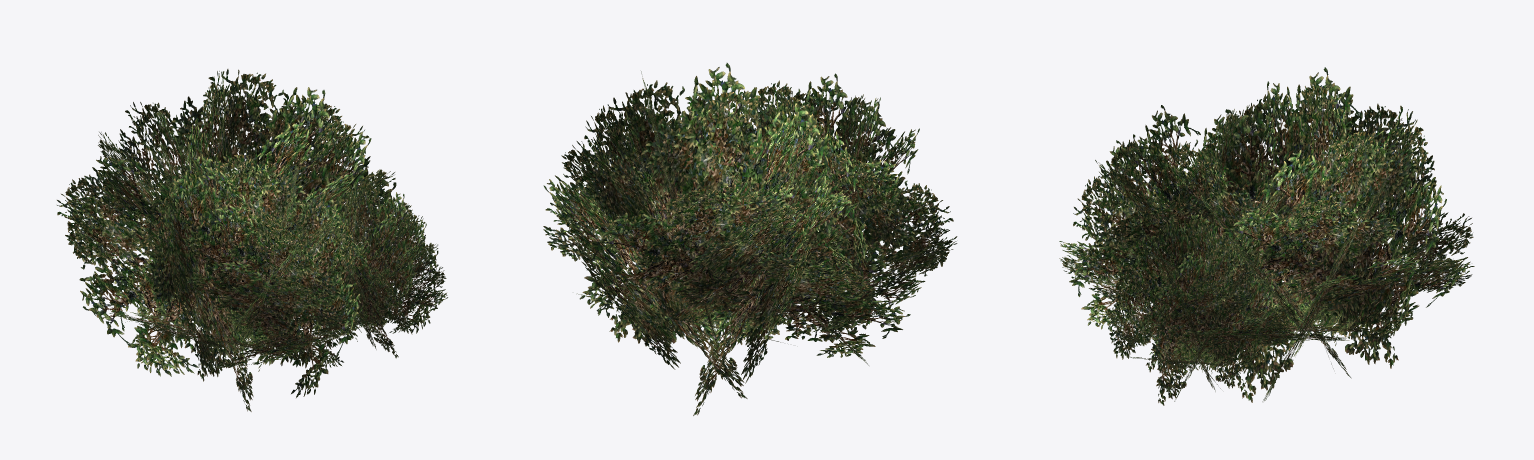
The model's file is shrb_leafbush_lg_l0.fbx.
3 renders of one model, left to right at view 1: azimuth 30°, elevation 25°; view 2: azimuth 150°, elevation 25°; view 3: azimuth 270°, elevation 25°, orthographic. The views are drawn at different scales.
Parts seen in each view (by area): view 1: mesh_node; view 2: mesh_node; view 3: mesh_node.
Boxes of the visible parts, <box> form: mesh_node: <box>57,69,447,411</box>; mesh_node: <box>543,63,957,415</box>; mesh_node: <box>1059,67,1474,405</box>.
Bounding box in the file's own units: 4.1 × 3.46 × 4.21.
